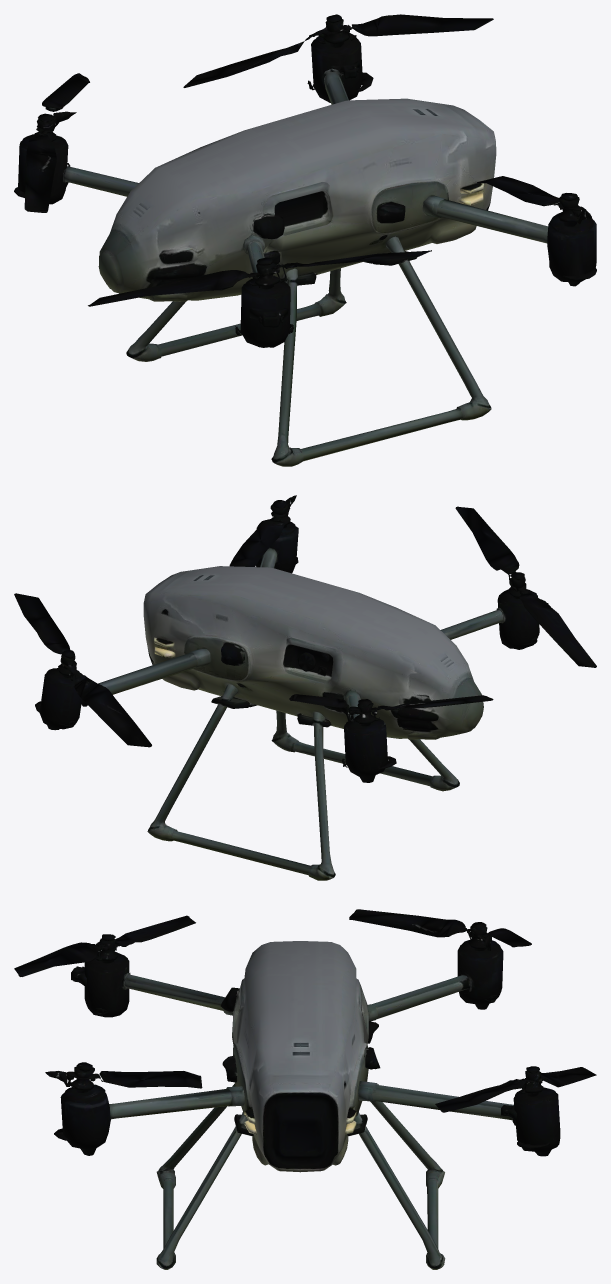
Rendered from drone.glb.
3 renders of one model, top to bottom at view 1: azimuth 30°, elevation 25°; view 2: azimuth 150°, elevation 25°; view 3: azimuth 270°, elevation 25°, orthographic. The views are drawn at different scales.
Parts seen in each view (by area): view 1: tripo_node_aed05eb6-8cce-4865-a63a-ba1e99101600; view 2: tripo_node_aed05eb6-8cce-4865-a63a-ba1e99101600; view 3: tripo_node_aed05eb6-8cce-4865-a63a-ba1e99101600.
Boxes of the visible parts, x1,y1,x2,y2 form: tripo_node_aed05eb6-8cce-4865-a63a-ba1e99101600: (14,14,596,466); tripo_node_aed05eb6-8cce-4865-a63a-ba1e99101600: (14,495,596,880); tripo_node_aed05eb6-8cce-4865-a63a-ba1e99101600: (14,909,596,1269).
Bounding box in the file's own units: 0.998 × 0.4668 × 0.998.
1 material, 1 textured.
